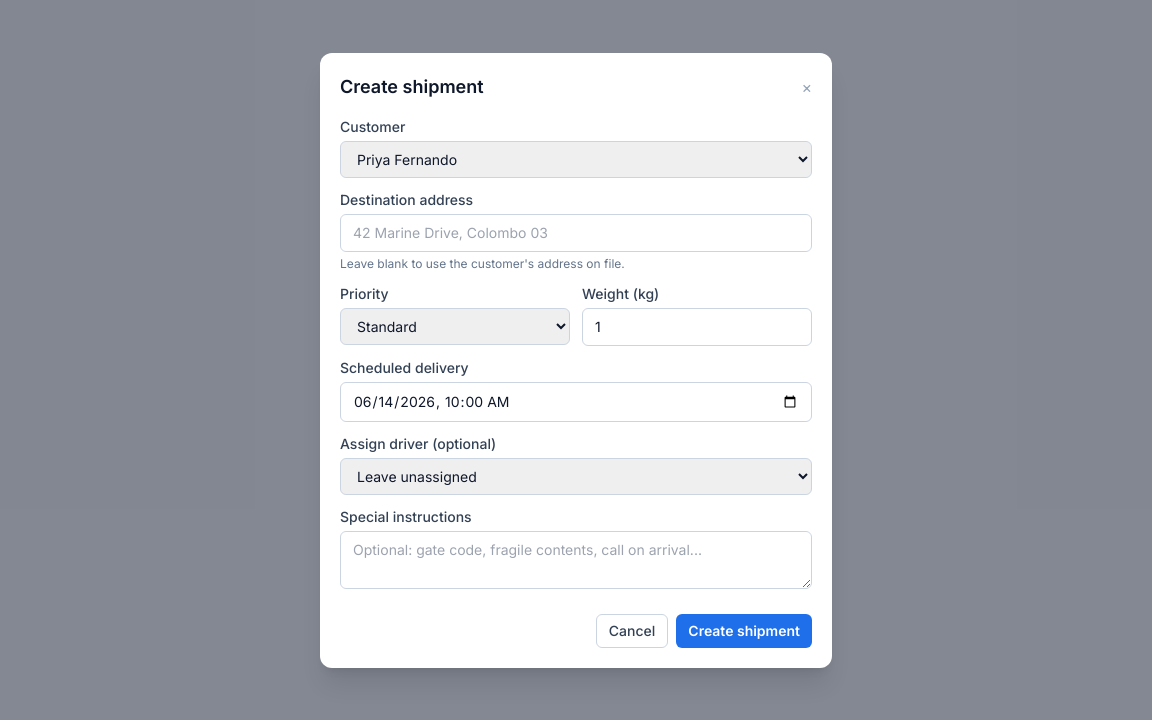
Test case: CreateShipmentModal › creates a shipment and shows the new tracking number
Step 1. Select "Anita Silva" in the dropdown labelled "Customer" → (576, 159), box [340,140,812,178]
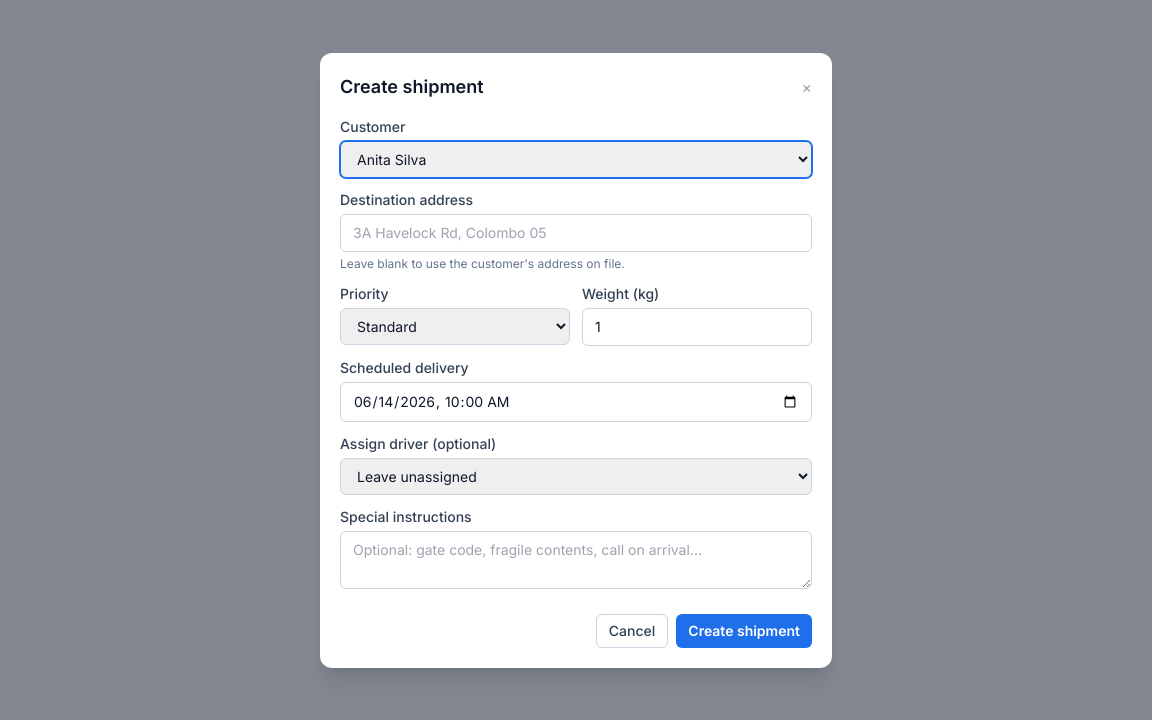
Step 2. Click the button "Create shipment" → (744, 630), box [676,614,812,648]
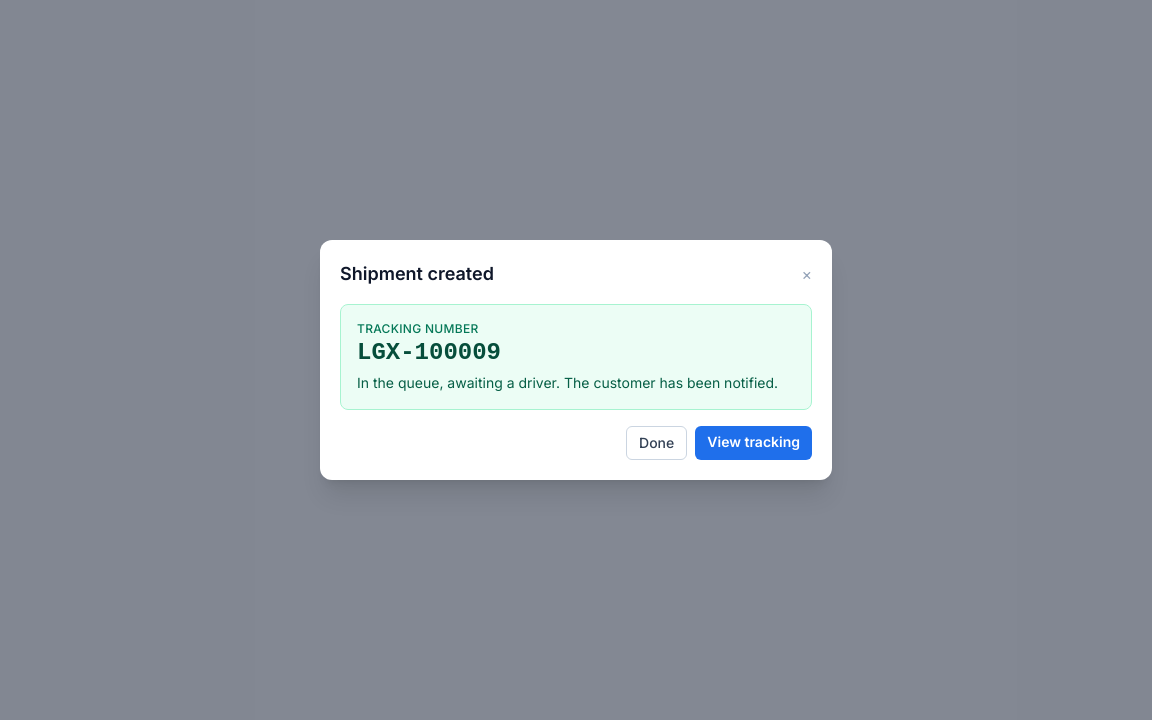
Result: the heading "Shipment created" is shown at [340,260,494,288]
